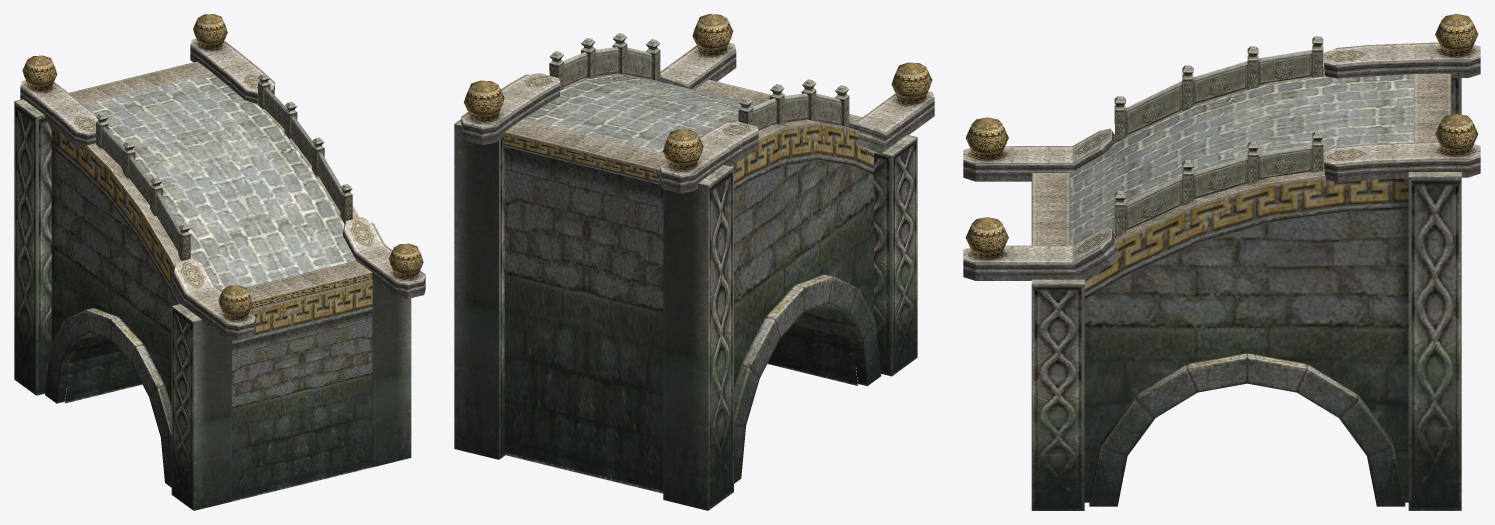
File: otherworld_bridge_00.fbx
The picture shows the model from 3 angles, left to right: view 1: azimuth 30°, elevation 25°; view 2: azimuth 150°, elevation 25°; view 3: azimuth 270°, elevation 25°; orthographic projection. The views are drawn at different scales.
Visible parts, largest first — view 1: otherworld_bridge_00; view 2: otherworld_bridge_00; view 3: otherworld_bridge_00.
Part boxes in pixels (<box>): otherworld_bridge_00: <box>14,14,425,510</box>; otherworld_bridge_00: <box>454,14,934,510</box>; otherworld_bridge_00: <box>963,14,1480,510</box>.
Bounding box in the file's own units: 8.5 × 12 × 14.61.
